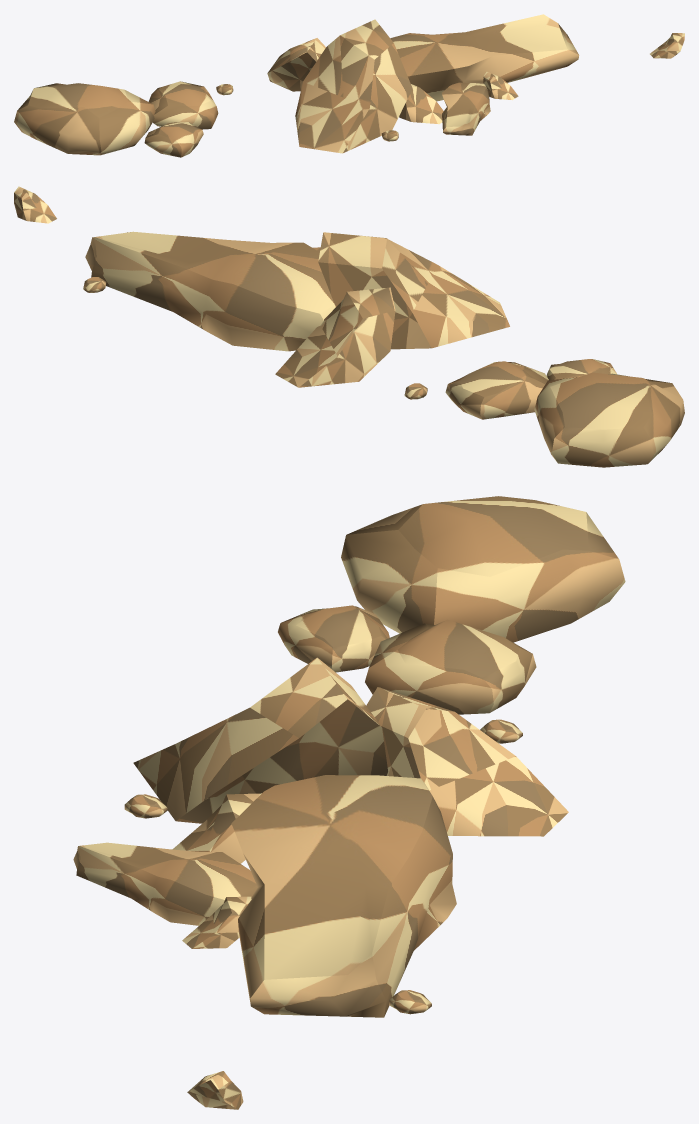
File: rocks.obj
3 views of the same model, one above another, from view 1: azimuth 30°, elevation 25°; view 2: azimuth 150°, elevation 25°; view 3: azimuth 270°, elevation 25° (orthographic). The views are drawn at different scales.
Parts seen in each view (by area): view 1: Box007, Box008, Box006, Box011, Box002, Box005, Box001, Box009, Box004, Box010; view 2: Box008, Box007, Box006, Box005, Box011, Box010, Box001; view 3: Box008, Box006, Box007, Box005, Box011, Box002, Box001, Box009, Box004, Box010.
Part boxes in pixels (x1,y1,x2,y2): Box007: (295,19,412,153); Box008: (390,14,579,101); Box006: (14,83,155,155); Box011: (148,81,218,129); Box002: (442,82,490,135); Box005: (267,38,325,91); Box001: (144,122,203,157); Box009: (399,84,443,124); Box004: (483,72,518,100); Box010: (650,33,684,58); Box008: (85,231,336,351); Box007: (318,232,509,349); Box006: (534,372,684,467); Box005: (275,287,395,387); Box011: (445,361,548,419); Box010: (14,186,56,223); Box001: (546,359,617,380); Box008: (231,775,456,1017); Box006: (341,496,625,642); Box007: (133,657,387,823); Box005: (366,687,568,836); Box011: (365,619,536,714); Box002: (73,842,257,925); Box001: (278,605,389,672); Box009: (172,793,261,863); Box004: (182,896,251,948); Box010: (187,1071,243,1109).
Size of the model in its own units: 110 by 14.51 by 44.77.
1 material, 1 textured.
